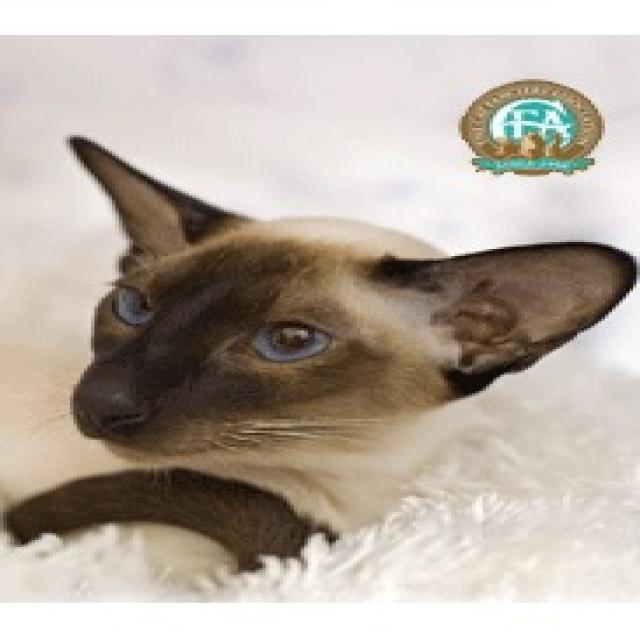Siamese: (58, 129, 640, 475)
